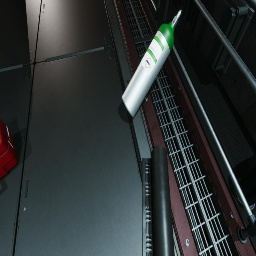0: (122, 10, 182, 118)
FirstAidBox ,: (0, 118, 18, 180)
